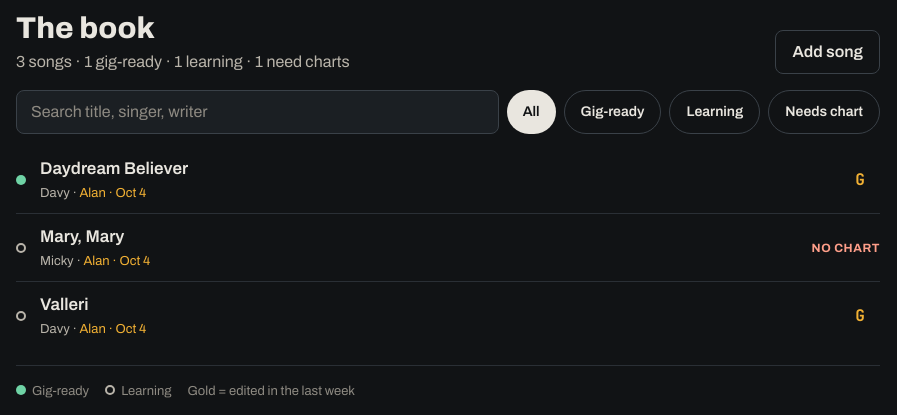
SongLibrary › filters to songs being learned: a chart, not gig-ready
Click the button "Learning".
click(715, 112)  # box [670,90,760,134]
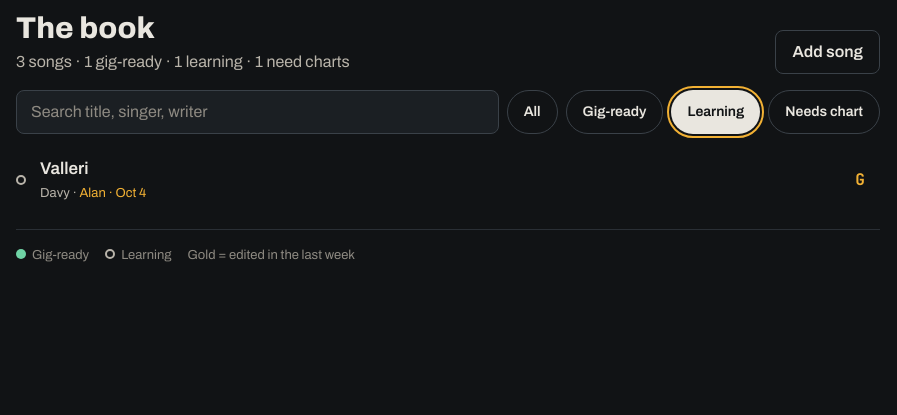
Expected: the text "Valleri" is shown, [40,159,89,178]
Expected: the number of list items is 1, [16,146,880,213]
